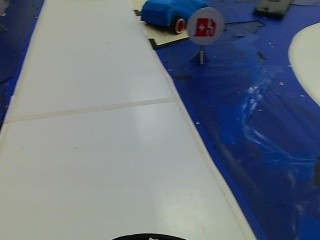battery: (189, 14, 219, 42)
